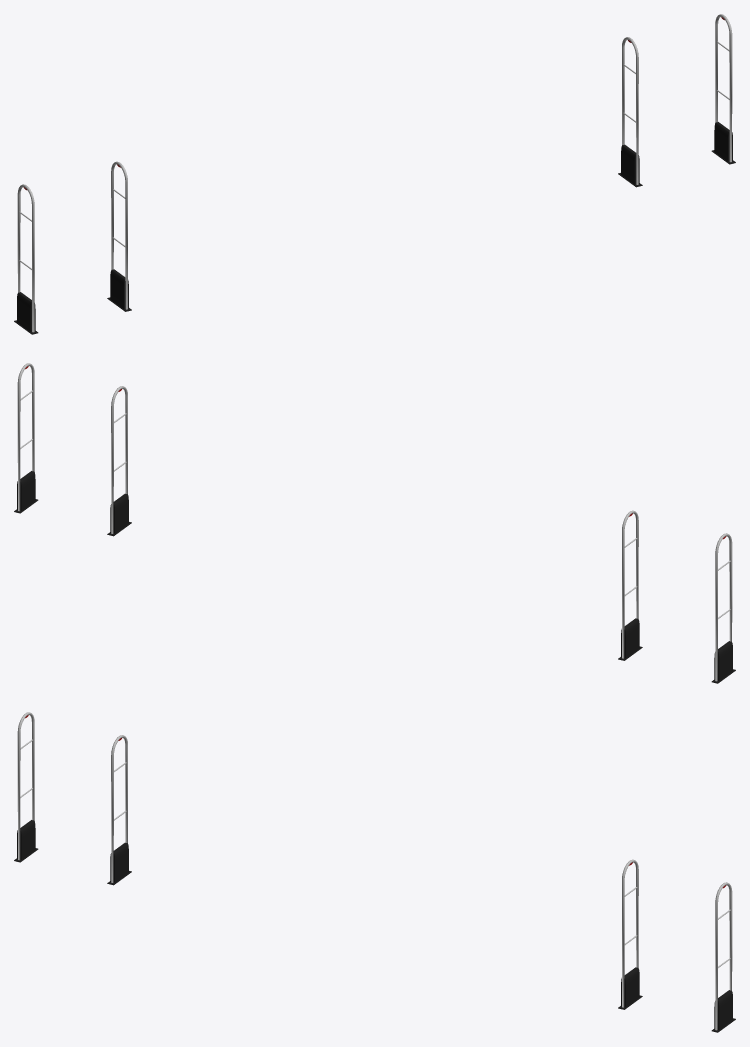
The model's file is Seguridad.fbx.
The picture shows the model from 3 angles, top to bottom: view 1: azimuth 30°, elevation 25°; view 2: azimuth 150°, elevation 25°; view 3: azimuth 330°, elevation 25°; orthographic projection.
Visible parts, largest first — view 1: Cube.001, Cube.005, Cube.002, Cube.006; view 2: Cube.001, Cube.005, Cube.002, Cube.006; view 3: Cube.005, Cube.001, Cube.002, Cube.006.
Boxes of the visible parts, x1,y1,x2,y2 form: Cube.001: (14, 184, 38, 334); Cube.005: (711, 14, 735, 164); Cube.002: (107, 161, 131, 311); Cube.006: (618, 37, 642, 187); Cube.001: (711, 533, 735, 683); Cube.005: (14, 363, 38, 513); Cube.002: (618, 510, 642, 660); Cube.006: (107, 386, 131, 536); Cube.005: (711, 882, 735, 1032); Cube.001: (14, 712, 38, 862); Cube.002: (107, 735, 131, 885); Cube.006: (618, 859, 642, 1009).
Bounding box in the file's own units: 938 × 181 × 41.68.
Materials: 4 (4 with a texture image).
